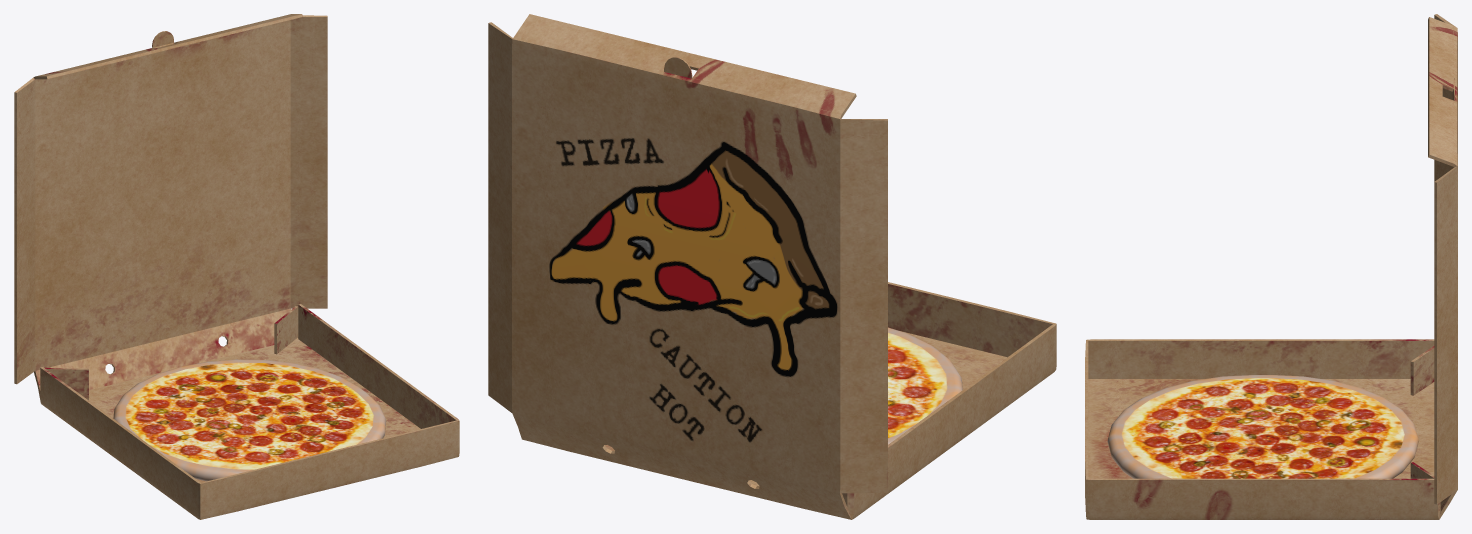
File: pizza.glb
The picture shows the model from 3 angles, left to right: view 1: azimuth 30°, elevation 25°; view 2: azimuth 150°, elevation 25°; view 3: azimuth 270°, elevation 25°; orthographic projection. The views are drawn at different scales.
Parts seen in each view (by area): view 1: Plane, Plane.002; view 2: Plane, Plane.002; view 3: Plane, Plane.002.
Boxes of the visible parts, <box> form: Plane: <box>14,14,459,519</box>; Plane.002: <box>113,359,386,481</box>; Plane: <box>488,14,1056,519</box>; Plane.002: <box>888,327,962,444</box>; Plane: <box>1085,14,1457,519</box>; Plane.002: <box>1107,375,1418,478</box>.
Bounding box in the file's own units: 2.28 × 2.34 × 2.13.
Materials: 2 (2 with a texture image).
